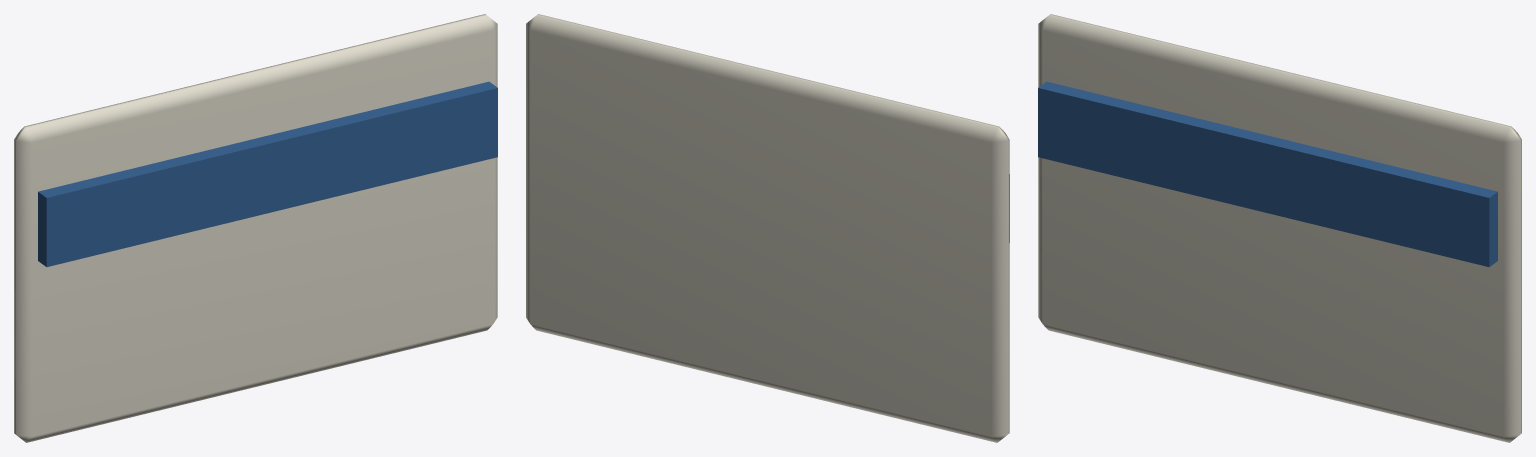
Rendered from Access_Card.glb.
The picture shows the model from 3 angles, left to right: view 1: azimuth 30°, elevation 25°; view 2: azimuth 150°, elevation 25°; view 3: azimuth 330°, elevation 25°; orthographic projection.
Visible parts, largest first — view 1: Access_Card; view 2: Access_Card; view 3: Access_Card.
Boxes of the visible parts, left/top/right/bottom form: Access_Card: left=14, top=14, right=497, bottom=442; Access_Card: left=526, top=14, right=1009, bottom=442; Access_Card: left=1038, top=14, right=1521, bottom=442.
Size of the model in its own units: 0.16 by 0.1 by 0.0135.
